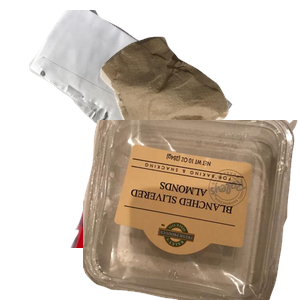glass: (68, 120, 255, 300)
paper: (27, 10, 252, 187)
plastic: (83, 120, 300, 300)
trash: (98, 34, 300, 211)
